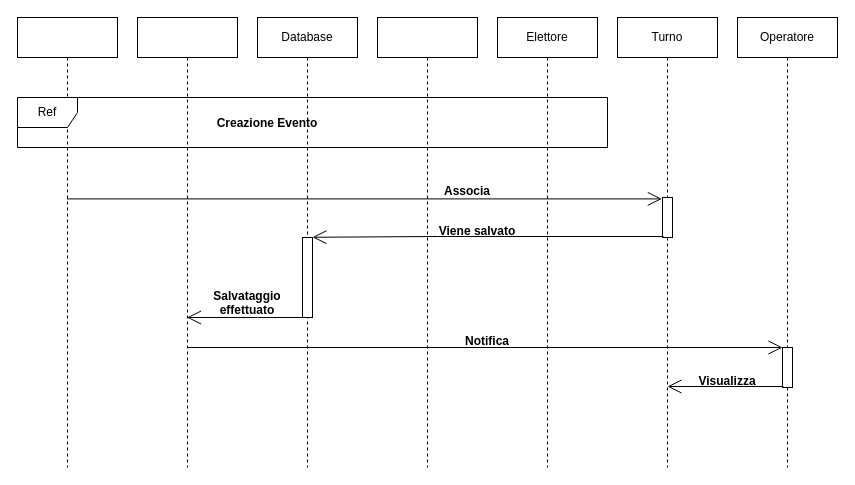
Some shapes in this 855 by 485 pixel diagram are drawn without their labels. The box of each missing label's shape, as (x1, y1, x2, y2) in pixels:
Amministratore: (16, 16, 118, 468)
Evento: (376, 16, 478, 468)
Sistema: (136, 16, 238, 468)
